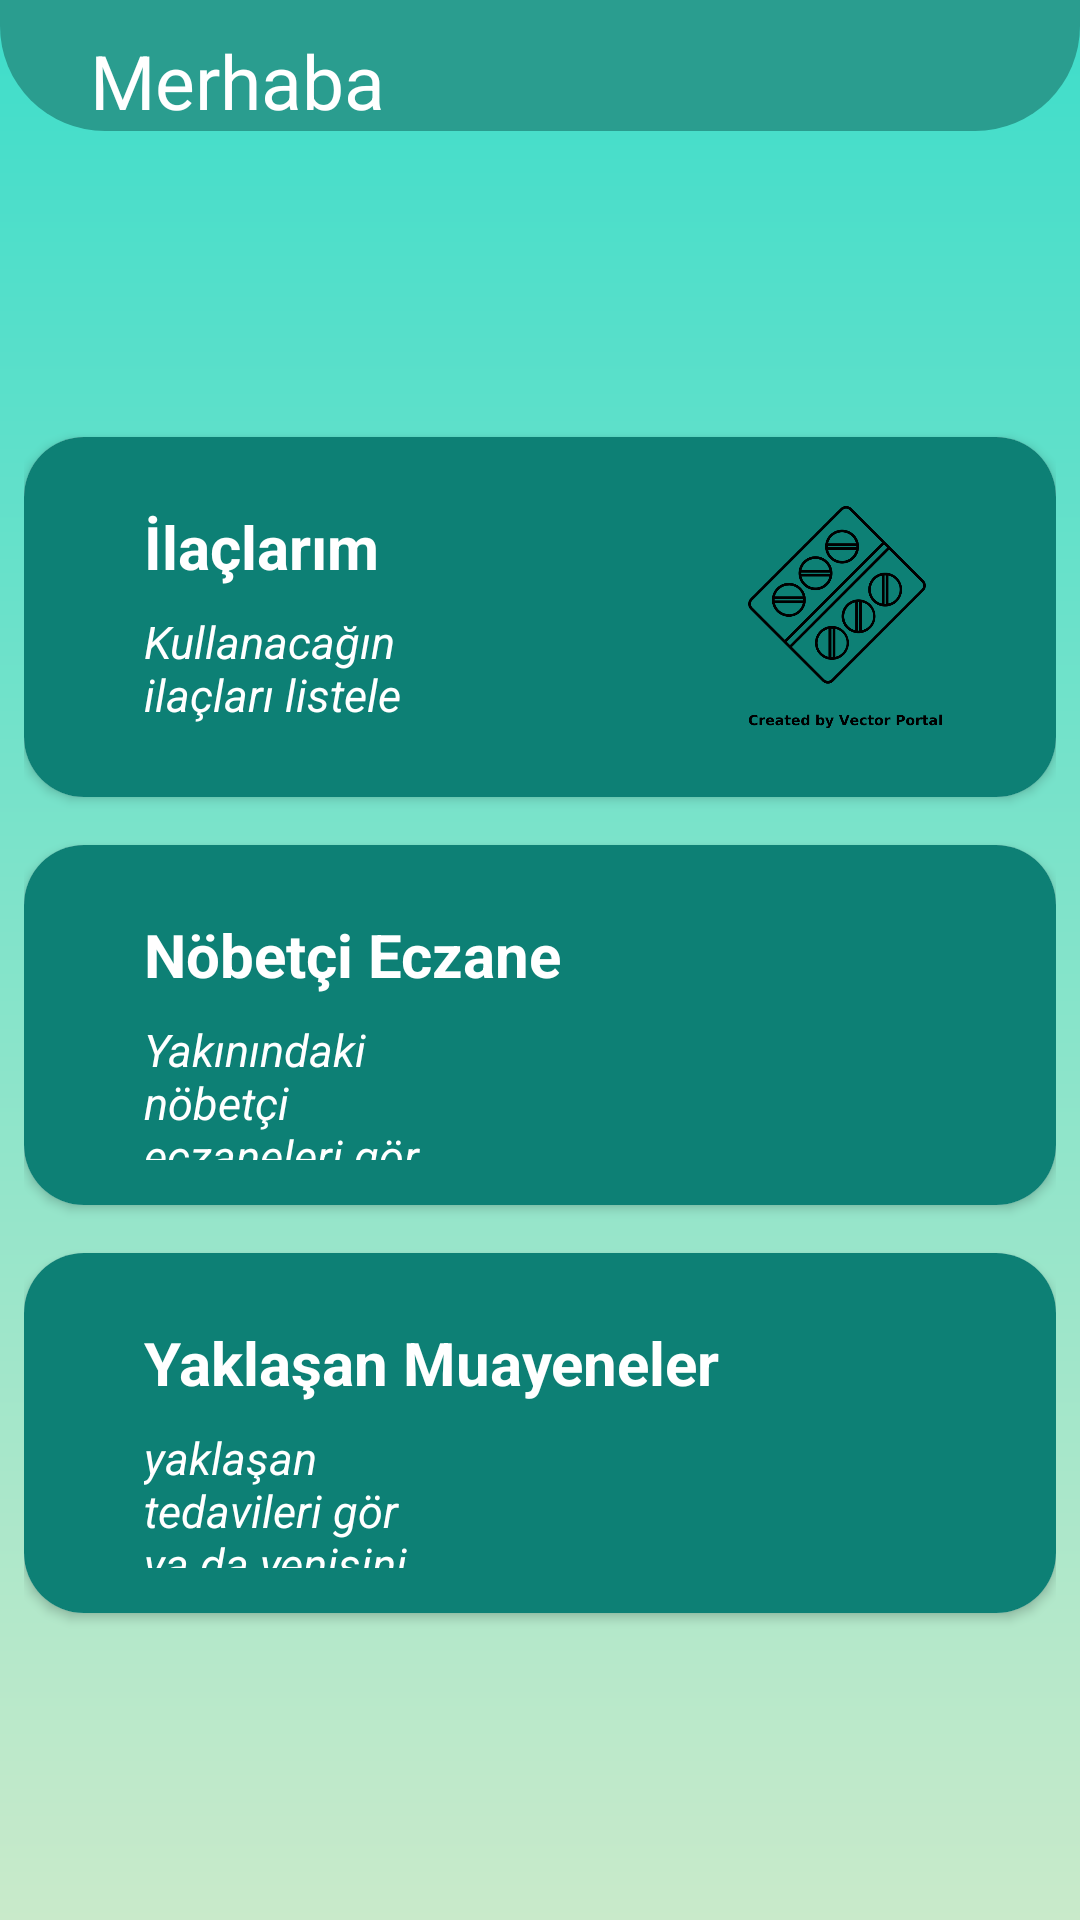

Icon bounding boxes for this 1080px x 1920px phone screenshot, format (x1=x1, y1=y1, x2=x2, y2=y2):
drugs: (x1=748, y1=506, x2=942, y2=728)
